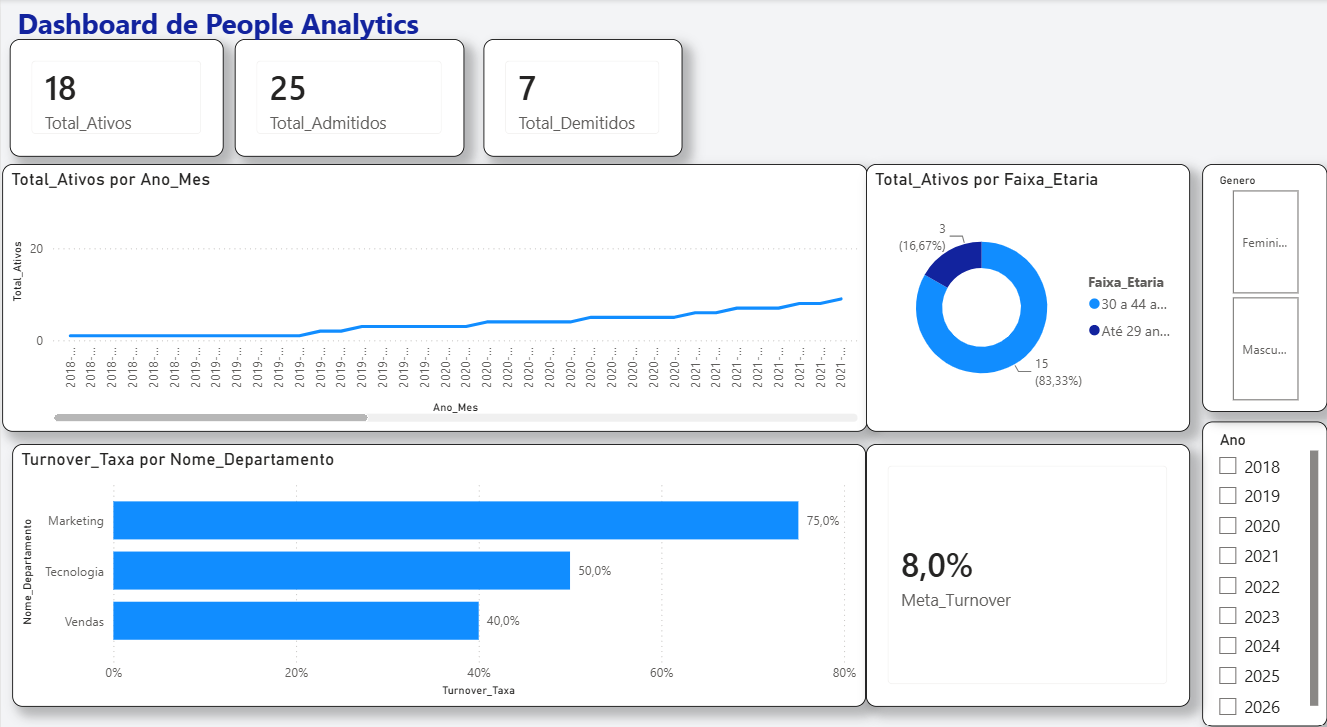

Layout of this report page (visuals, bound fields, positions):
{"tool":"powerbi","page":{"name":"Dashboard ","canvas":[1280,720],"ordinal":1},"visuals":[{"type":"cardVisual","fields":{"Data":["_Medidas.Total_Ativos"]},"box":[8.4,38.6,206.3,113.4],"z":0},{"type":"cardVisual","fields":{"Data":["_Medidas.Total_Admitidos"]},"box":[225.6,38.6,222,113.4],"z":1000},{"type":"cardVisual","fields":{"Data":["_Medidas.Total_Demitidos"]},"box":[465.7,38.6,191.8,113.4],"z":2000},{"type":"lineChart","fields":{"Category":["dCalendario.Ano_Mes"],"Y":["_Medidas.Total_Ativos"]},"box":[1.2,159.3,834.9,258.2],"z":3000},{"type":"donutChart","fields":{"Category":["fFuncionarios.Faixa_Etaria"],"Y":["_Medidas.Total_Ativos"]},"box":[834.9,159.3,312.5,258.2],"z":4000},{"type":"clusteredBarChart","fields":{"Category":["dCargosDepartamentos.Nome_Departamento"],"Y":["_Medidas.Turnover_Taxa"]},"box":[10.9,429.5,824,253.4],"z":5000},{"type":"slicer","fields":{"Values":["dCalendario.Ano"]},"box":[1159.4,407.8,120.6,295.6],"z":6000},{"type":"slicer","fields":{"Values":["fFuncionarios.Genero"]},"box":[1159.4,159.3,120.6,238.9],"z":7000},{"type":"cardVisual","fields":{"Data":["_Medidas.Meta_Turnover"]},"box":[834.9,429.5,312.5,253.4],"z":8000},{"type":"textbox","box":[10.9,0,407.8,55.5],"z":9000}]}

Visuals, with their boxes in screenshot pixels (x1, y1, x2, y2), scaled from the page's 1280x720 canvas onto the 1327x727 screenshot:
cardVisual - _Medidas.Total_Ativos: <region>9, 39, 223, 153</region>
cardVisual - _Medidas.Total_Admitidos: <region>234, 39, 464, 153</region>
cardVisual - _Medidas.Total_Demitidos: <region>483, 39, 682, 153</region>
lineChart - dCalendario.Ano_Mes x _Medidas.Total_Ativos: <region>1, 161, 867, 422</region>
donutChart - fFuncionarios.Faixa_Etaria x _Medidas.Total_Ativos: <region>866, 161, 1190, 422</region>
clusteredBarChart - dCargosDepartamentos.Nome_Departamento x _Medidas.Turnover_Taxa: <region>11, 434, 866, 690</region>
slicer - dCalendario.Ano: <region>1202, 412, 1326, 710</region>
slicer - fFuncionarios.Genero: <region>1202, 161, 1326, 402</region>
cardVisual - _Medidas.Meta_Turnover: <region>866, 434, 1190, 690</region>
textbox: <region>11, 0, 434, 56</region>
